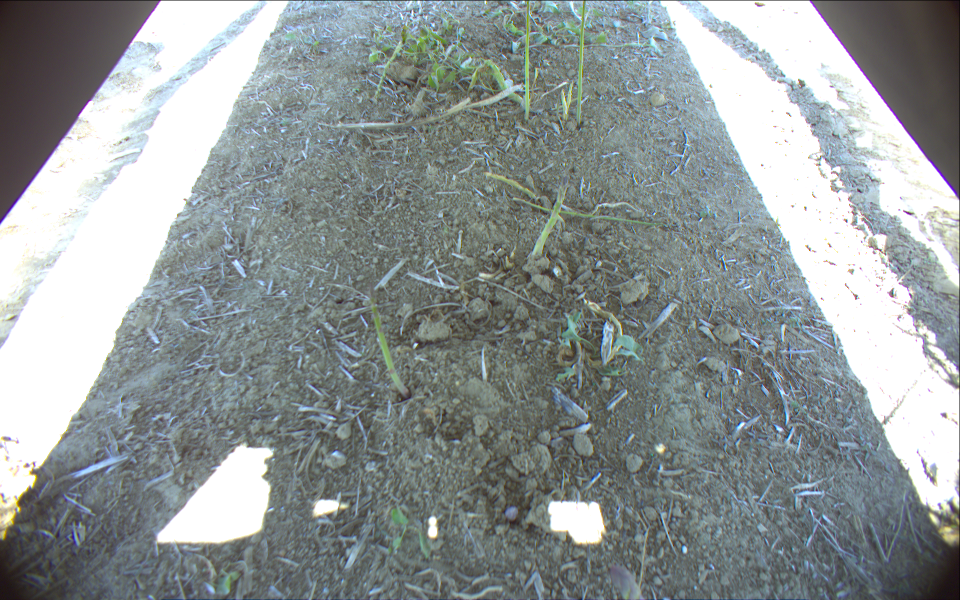aspa: (368, 304, 408, 401), (574, 1, 589, 129), (523, 1, 535, 121)
